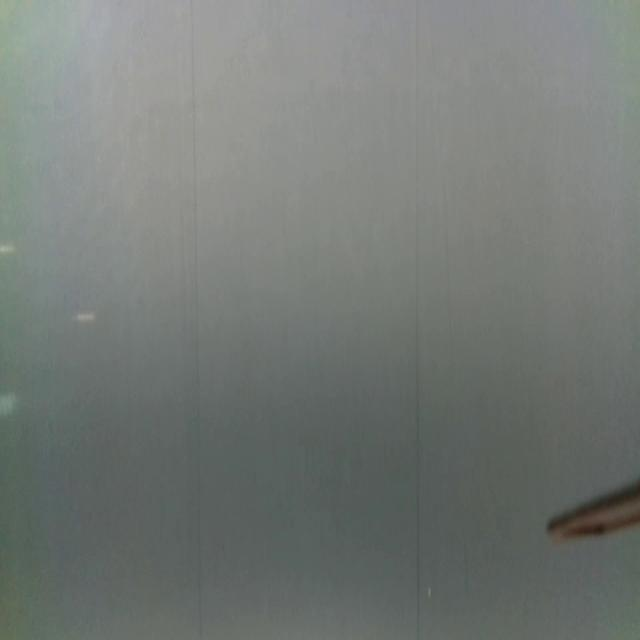crease: (188, 0, 203, 636), (413, 0, 422, 640)
